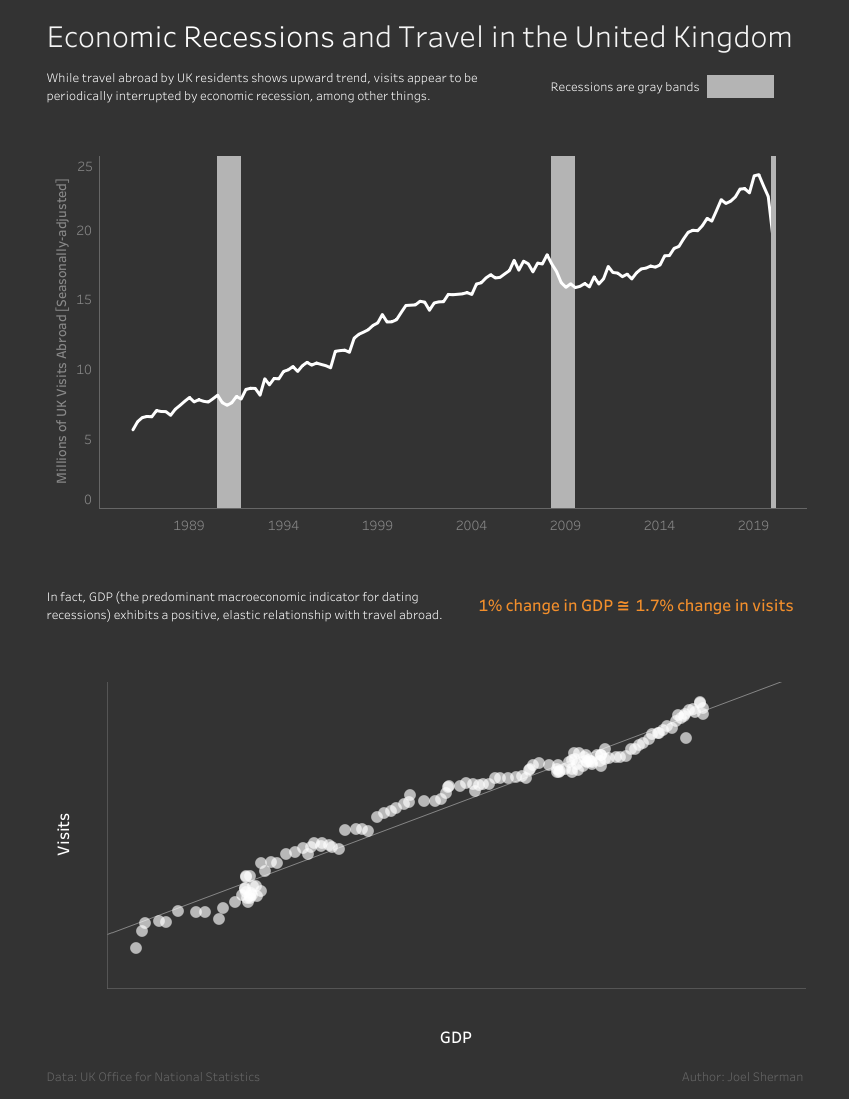

The dashboard page shown, as its layout file describes it:
{"tool":"tableau","page":{"name":"Recessions&Travel","canvas":[850,1100],"ordinal":0},"visuals":[{"type":"worksheet","box":[0,0,850,1100]},{"type":"worksheet","box":[8,8,32.1,1084]},{"type":"worksheet","box":[40.1,8,769.9,55]},{"type":"worksheet","box":[810,8,32,1084]},{"type":"worksheet","param":"horz","box":[40.1,63,769.9,46]},{"type":"worksheet","box":[40.1,63,504,46]},{"type":"worksheet","box":[544.1,63,265.9,46]},{"type":"worksheet","box":[707,75,67,23]},{"type":"worksheet","param":"vert","box":[40.1,109,769.9,433]},{"type":"worksheet","title":"Visits_Recessions","mark":"Line","rows":["Calculation_5947284793803489282"],"cols":["Calculation_5947284793794670593"],"box":[40.1,109,769.9,433]},{"type":"worksheet","box":[40.1,542,769.9,32]},{"type":"worksheet","box":[40.1,574,431.9,61]},{"type":"worksheet","box":[472,574,338,61]},{"type":"worksheet","title":"Visits_GDP","mark":"Circle","rows":["LogVisits"],"cols":["LogGDP"],"box":[40.1,635,769.9,425]},{"type":"worksheet","box":[40.1,1060,561.2,32]},{"type":"worksheet","box":[601.3,1060,208.7,32]}]}

Visuals, with their boxes in screenshot pixels (x1, y1, x2, y2), scaled from the page's 850x1100 canvas onto the 849x1099 screenshot:
worksheet: [0, 0, 848, 1098]
worksheet: [8, 8, 40, 1091]
worksheet: [40, 8, 809, 63]
worksheet: [809, 8, 841, 1091]
worksheet: [40, 63, 809, 109]
worksheet: [40, 63, 543, 109]
worksheet: [543, 63, 809, 109]
worksheet: [706, 75, 773, 98]
worksheet: [40, 109, 809, 542]
"Visits_Recessions" worksheet (Line marks): [40, 109, 809, 542]
worksheet: [40, 542, 809, 573]
worksheet: [40, 573, 471, 634]
worksheet: [471, 573, 809, 634]
"Visits_GDP" worksheet (Circle marks): [40, 634, 809, 1059]
worksheet: [40, 1059, 601, 1091]
worksheet: [601, 1059, 809, 1091]
